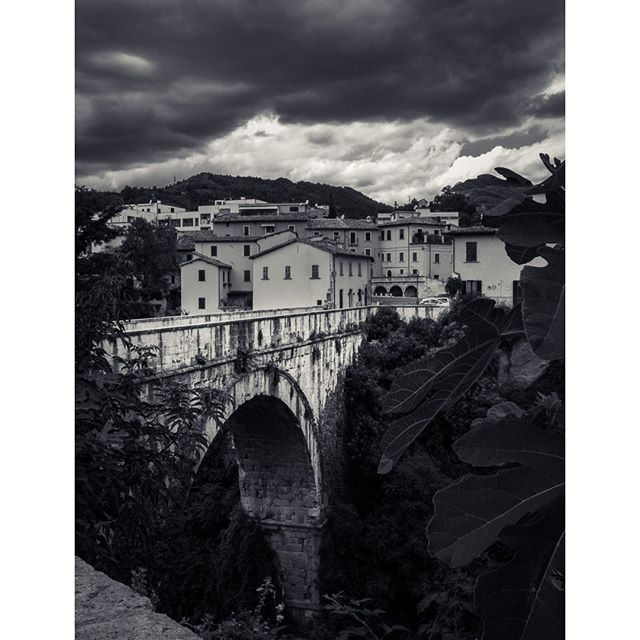bridge: (65, 285, 391, 573)
building: (187, 212, 311, 297), (251, 236, 379, 315), (456, 220, 546, 311), (383, 203, 457, 295)
mountain: (133, 162, 396, 235)
sky: (91, 2, 563, 179)
